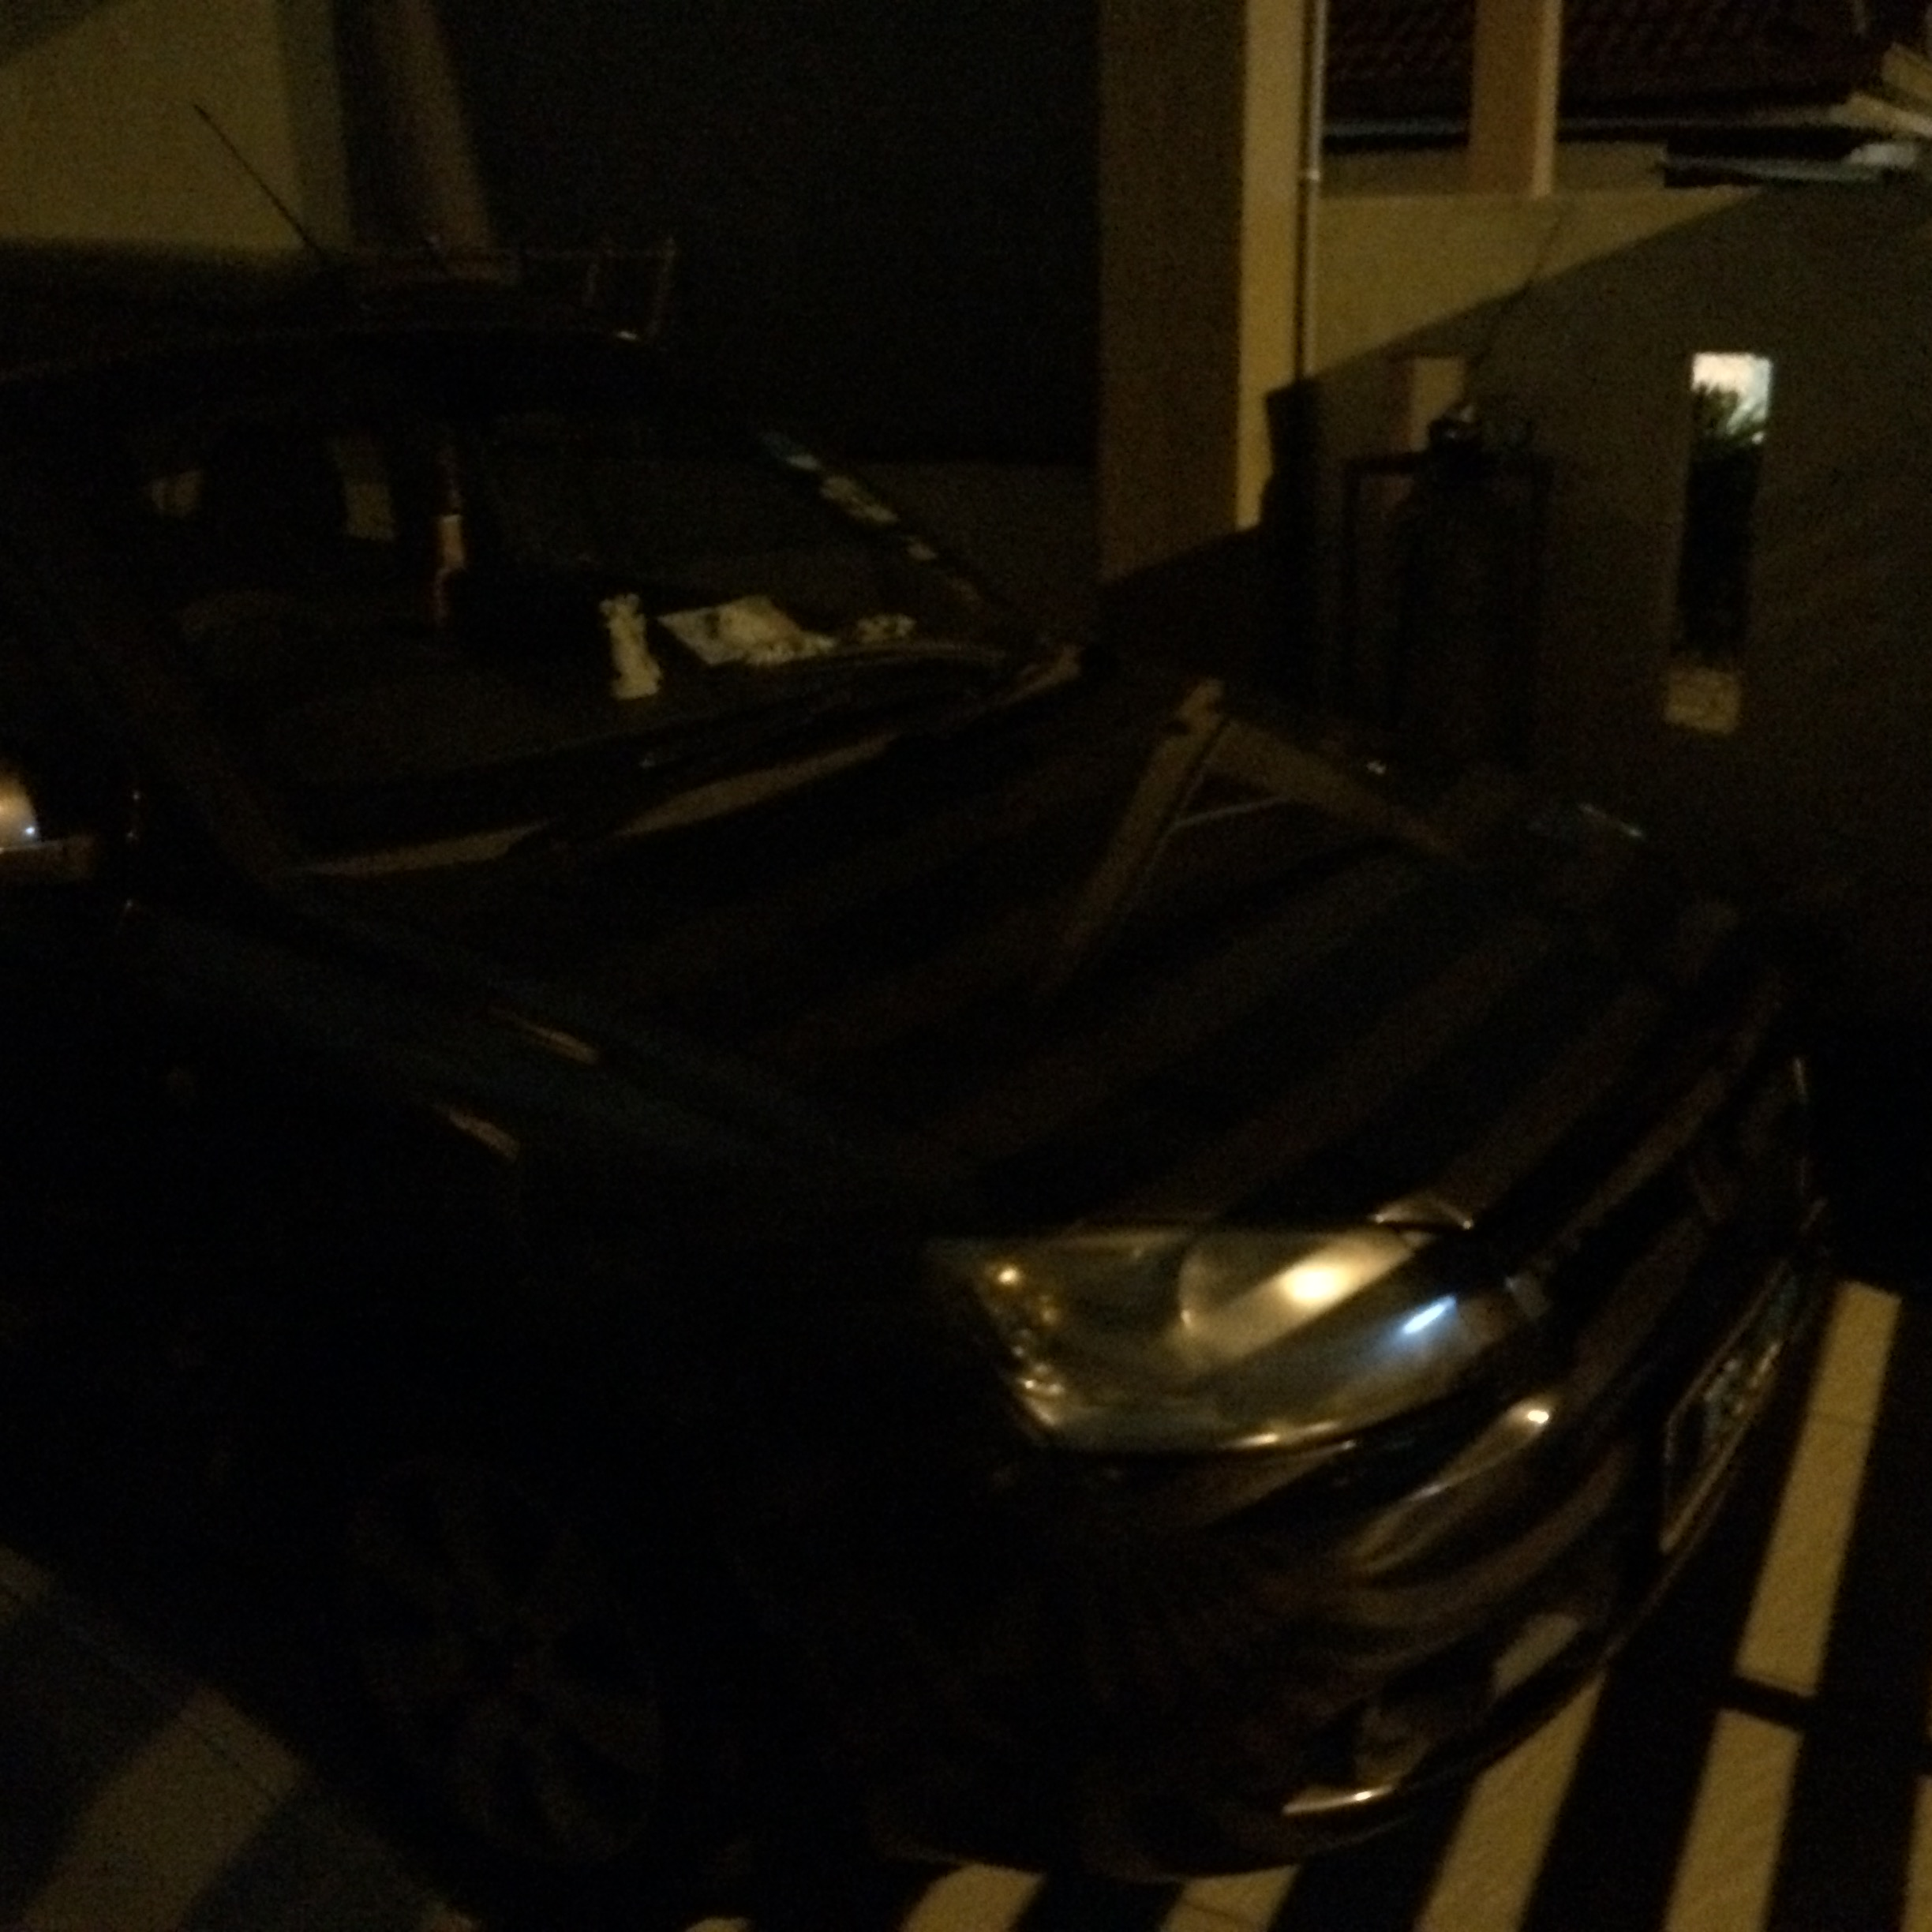car: (27, 168, 1877, 1898)
